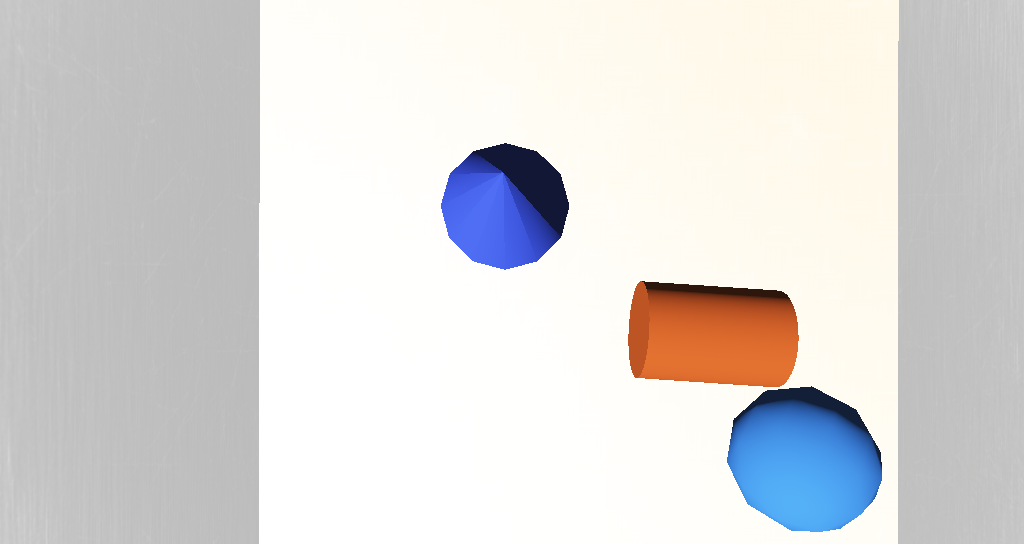cone: (529, 274, 603, 308)
cylinder: (441, 215, 502, 262)
sphere: (566, 308, 633, 351)
